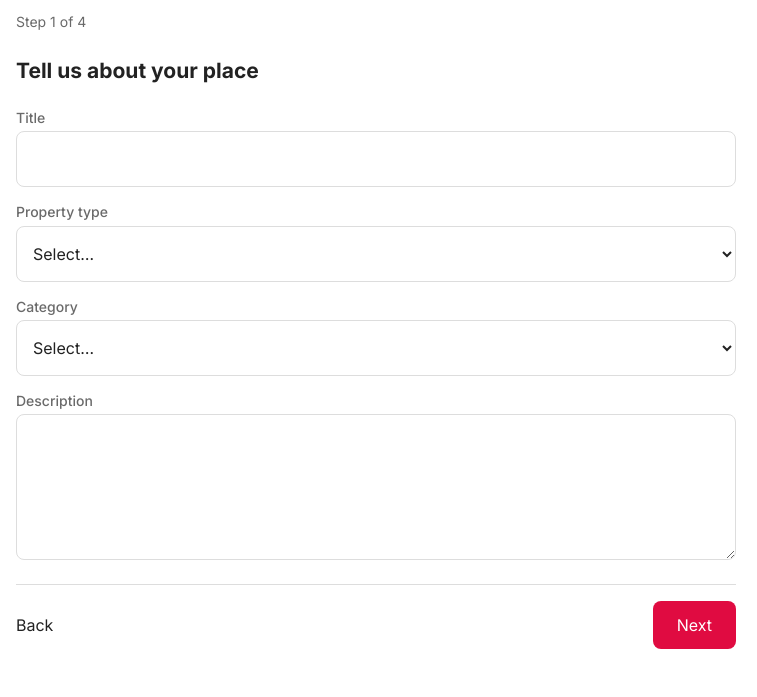
HostListingForm › won't leave step 1 until its fields are valid
Click the button "Next".
click(694, 625)  # box [653,601,736,649]
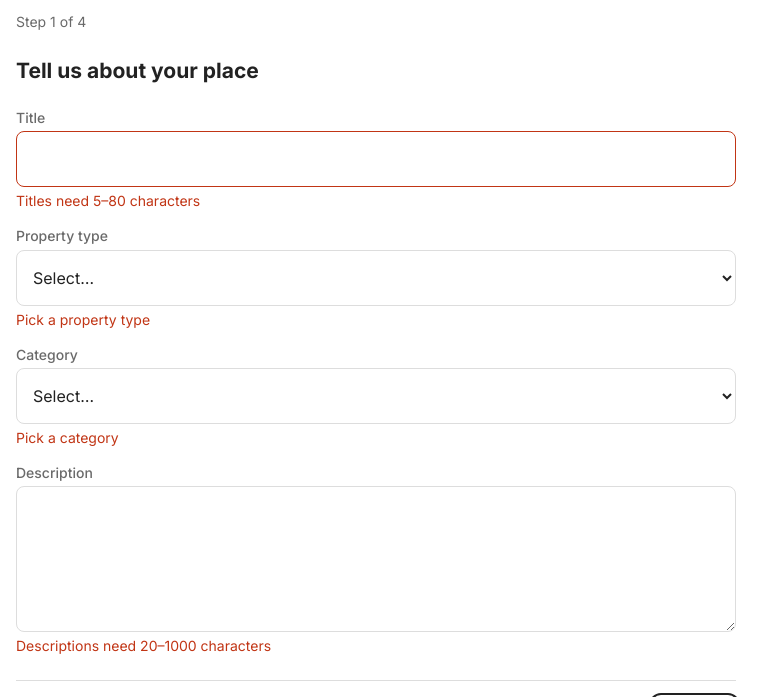
Expected: the heading "Tell us about your place" is shown, [16,58,259,83]
Result: the text "Titles need 5–80 characters" is shown at [16,192,200,210]
Result: the text "Pick a property type" is shown at [16,310,150,328]
